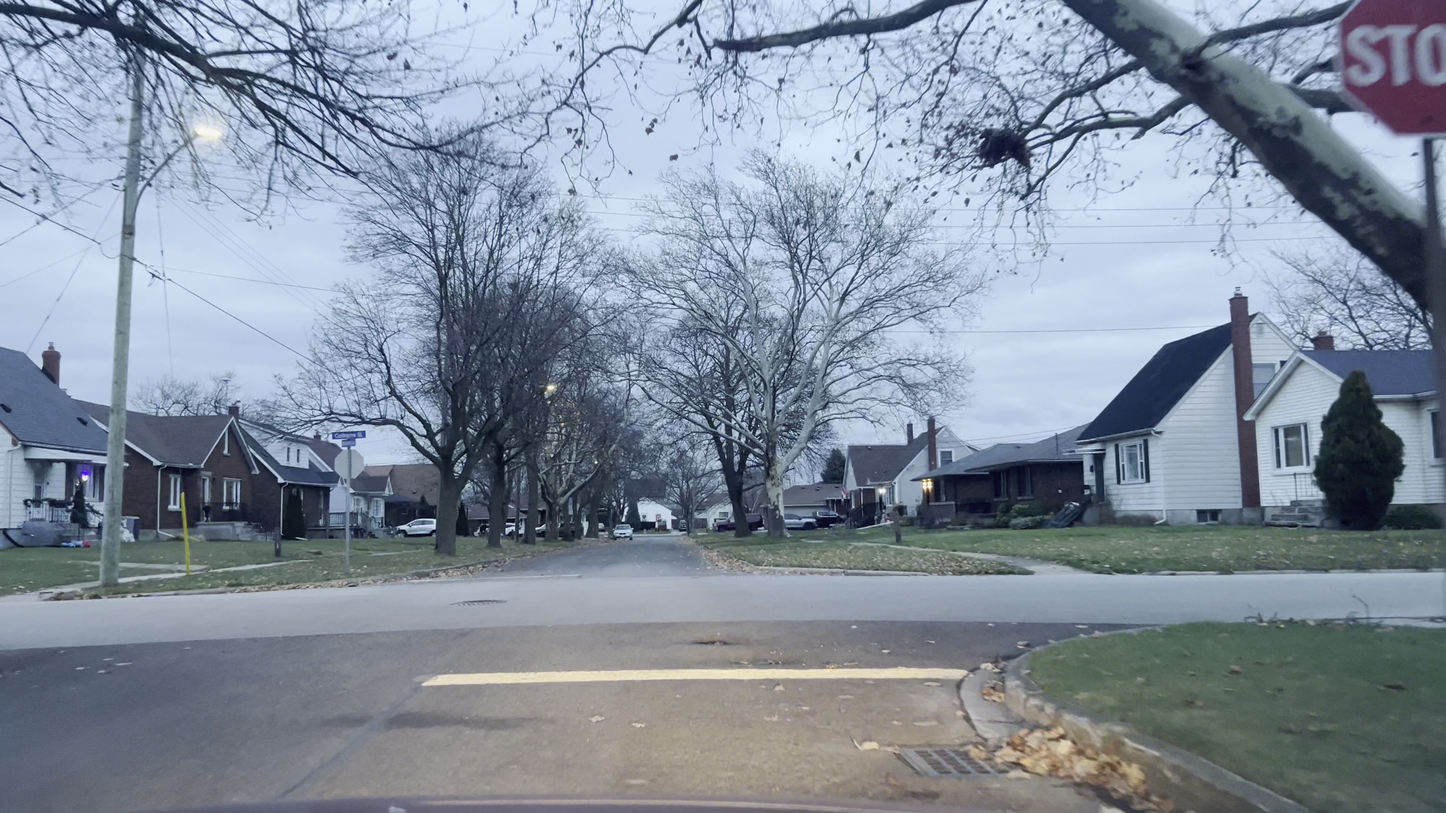pothole: (693, 630, 752, 657)
